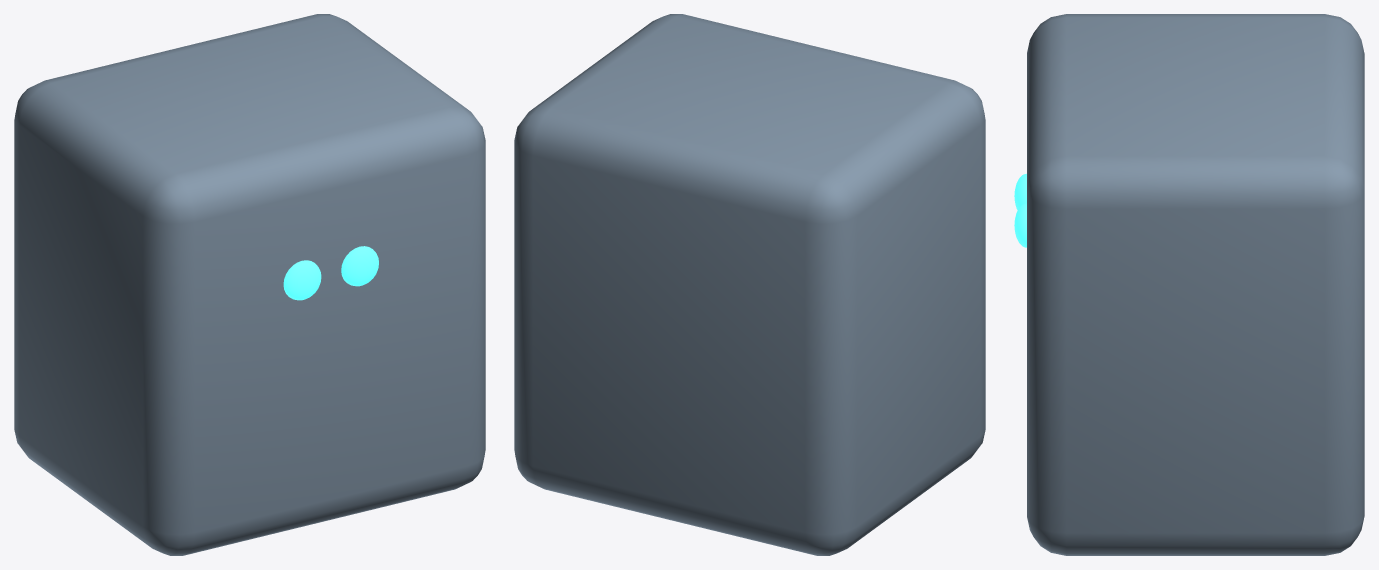
Rendered from ooze_v4.glb.
3 renders of one model, left to right at view 1: azimuth 30°, elevation 25°; view 2: azimuth 150°, elevation 25°; view 3: azimuth 270°, elevation 25°, orthographic. The views are drawn at different scales.
Visible parts, largest first — view 1: GELATINOUS_CUBE_PRIMARY, EYE_EMISSIVE, EYE_EMISSIVE.001; view 2: GELATINOUS_CUBE_PRIMARY; view 3: GELATINOUS_CUBE_PRIMARY, EYE_EMISSIVE.001.
Boxes of the visible parts, box(x1,y1,x2,y2) form: GELATINOUS_CUBE_PRIMARY: box(14, 14, 485, 555); EYE_EMISSIVE: box(283, 260, 321, 300); EYE_EMISSIVE.001: box(341, 246, 378, 286); GELATINOUS_CUBE_PRIMARY: box(514, 14, 985, 555); GELATINOUS_CUBE_PRIMARY: box(1027, 14, 1364, 555); EYE_EMISSIVE.001: box(1014, 203, 1026, 247).
Bounding box in the file's own units: 1.64 × 1.76 × 1.41.
